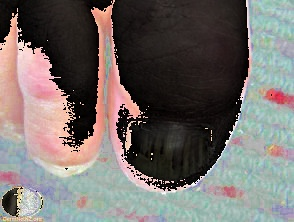Nail_psoriasis: (114, 108, 222, 196), (25, 144, 98, 187)
